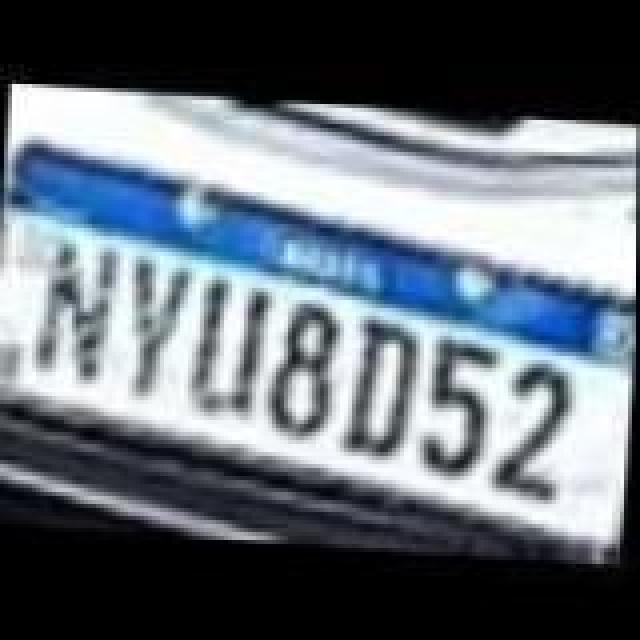2: (496, 356, 584, 504)
5: (422, 334, 498, 478)
8: (268, 300, 348, 444)
D: (344, 314, 424, 462)
N: (30, 236, 122, 388)
U: (184, 270, 272, 422)
Y: (128, 252, 200, 400)
